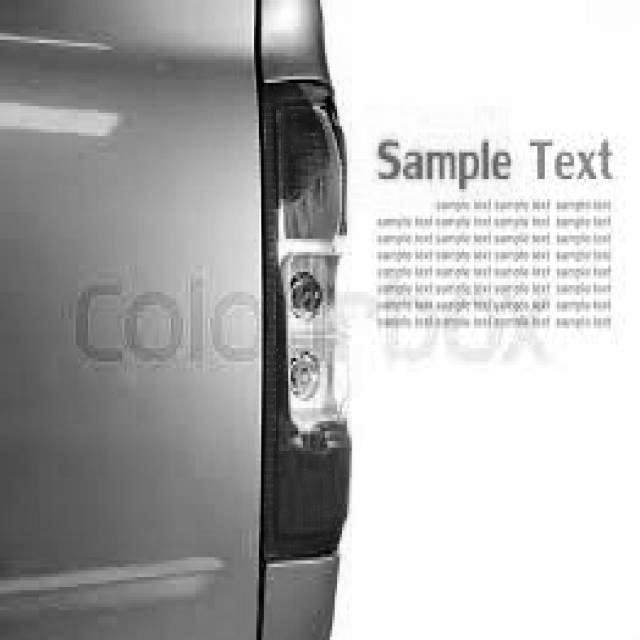Taillight-Damage: (253, 73, 350, 544)
